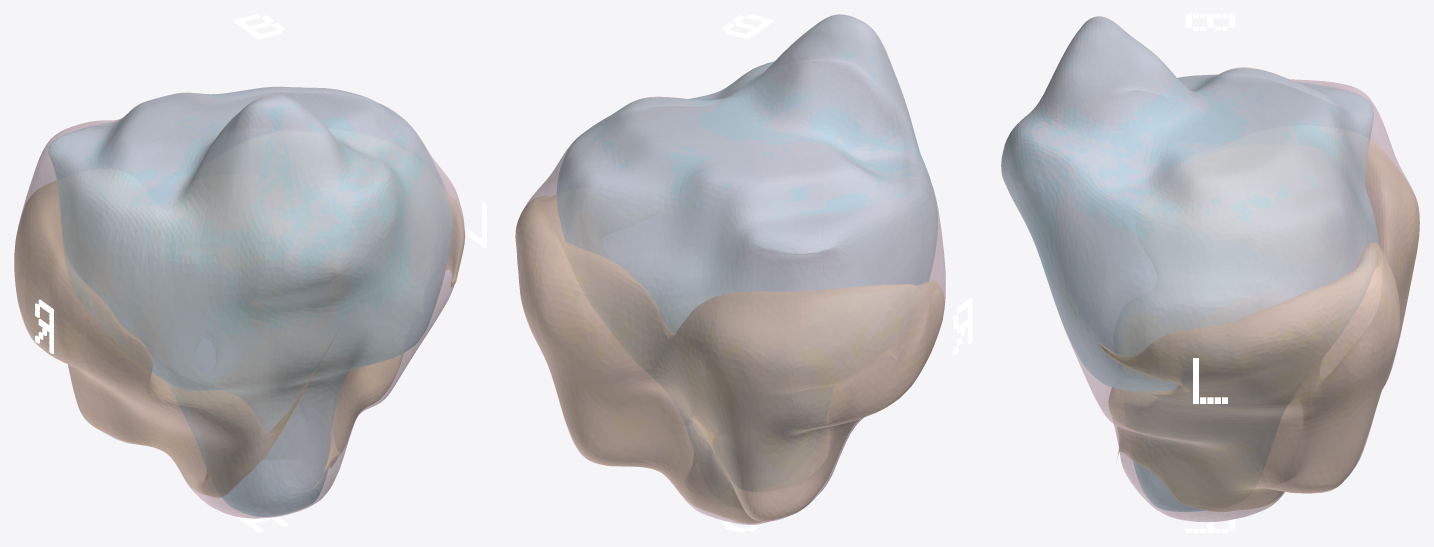
3 views of the same model, side by side, from view 1: azimuth 30°, elevation 25°; view 2: azimuth 150°, elevation 25°; view 3: azimuth 270°, elevation 25° (orthographic).
Visible parts, largest first — view 1: prostate_gland, transition_zone, peripheral_zone, pv_ar_marker_B, pv_ar_marker_R; view 2: prostate_gland, transition_zone, peripheral_zone, pv_ar_marker_B, pv_ar_marker_R; view 3: prostate_gland, transition_zone, peripheral_zone, pv_ar_marker_B, pv_ar_marker_A.
Boxes of the visible parts, x1,y1,x2,y2 form: prostate_gland: [14, 86, 465, 518]; transition_zone: [48, 87, 452, 516]; peripheral_zone: [14, 180, 464, 497]; pv_ar_marker_B: [233, 14, 284, 39]; pv_ar_marker_R: [35, 299, 53, 353]; prostate_gland: [515, 14, 945, 524]; transition_zone: [557, 14, 937, 455]; peripheral_zone: [515, 195, 944, 523]; pv_ar_marker_B: [722, 14, 773, 39]; pv_ar_marker_R: [953, 298, 972, 354]; prostate_gland: [1001, 16, 1419, 522]; transition_zone: [1001, 17, 1378, 511]; peripheral_zone: [1056, 139, 1419, 511]; pv_ar_marker_B: [1185, 14, 1235, 30]; pv_ar_marker_A: [1185, 516, 1235, 532].
Size of the model in its own units: 0.0511 by 0.0557 by 0.0419.
